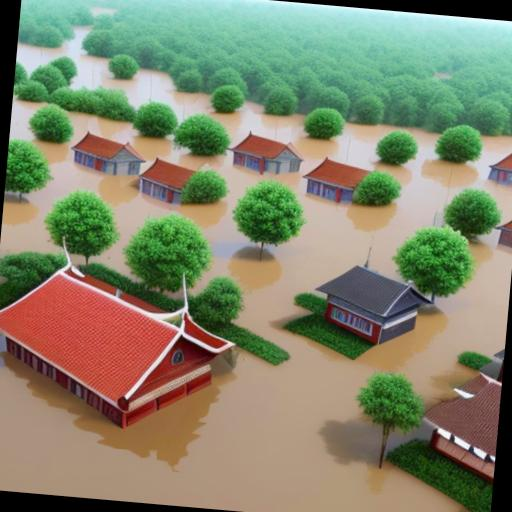flood: (0, 115, 512, 512), (16, 26, 512, 225), (9, 100, 68, 164), (90, 7, 116, 16)
house: (0, 250, 236, 445), (410, 365, 502, 506), (313, 260, 431, 358), (69, 124, 154, 180), (228, 131, 306, 180), (302, 154, 371, 208), (139, 152, 201, 206), (488, 138, 512, 190), (493, 204, 512, 252), (489, 337, 506, 382)
